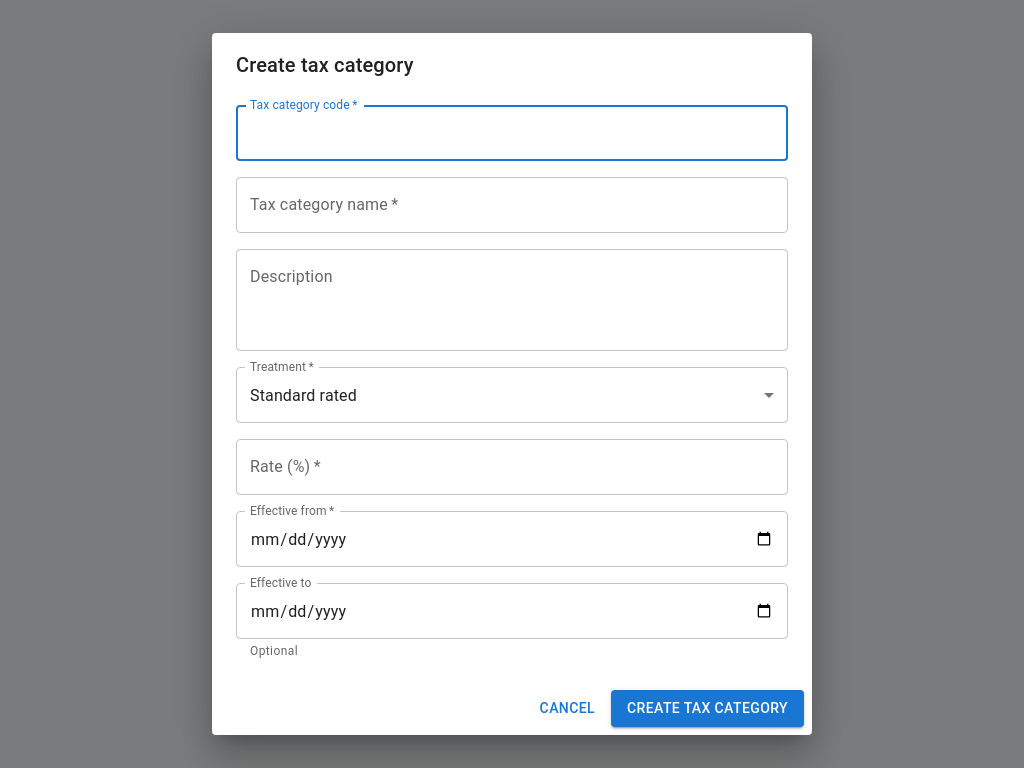
Test: CreateTaxCategoryDialog › validates treatment-rate and effective-date rules
Type "regional" into the field labelled "Tax category code *" at (512, 133), box [236,105,788,161]
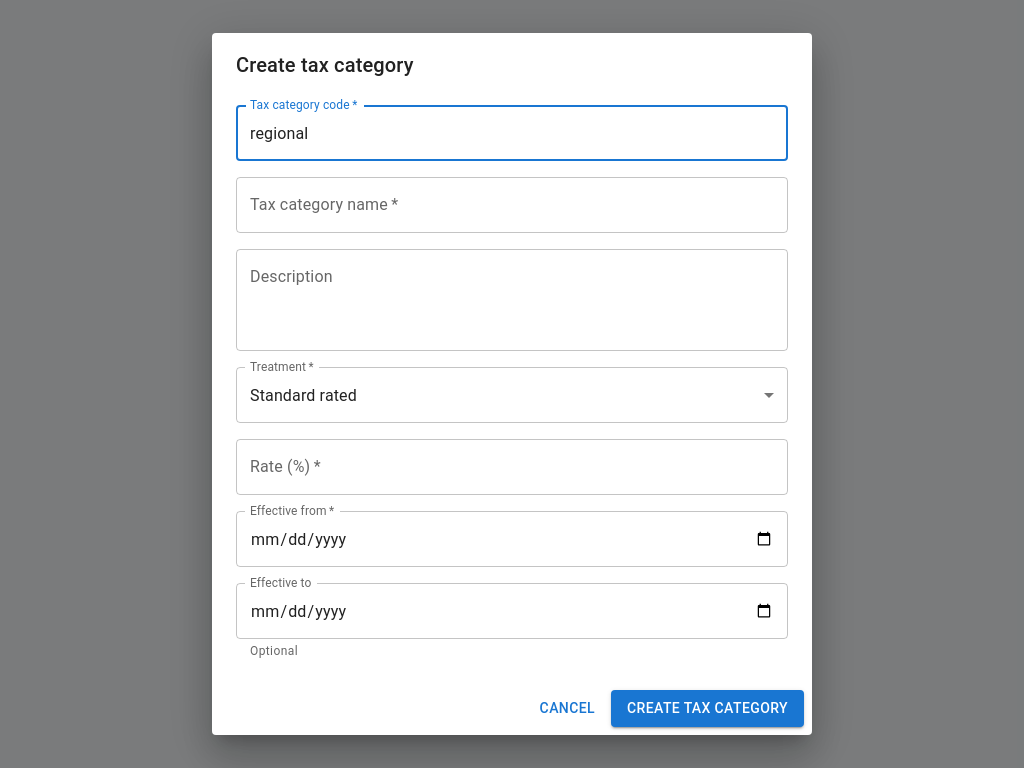
Type "Regional" into the field labelled "Tax category name *" at (512, 205), box [236,177,788,233]
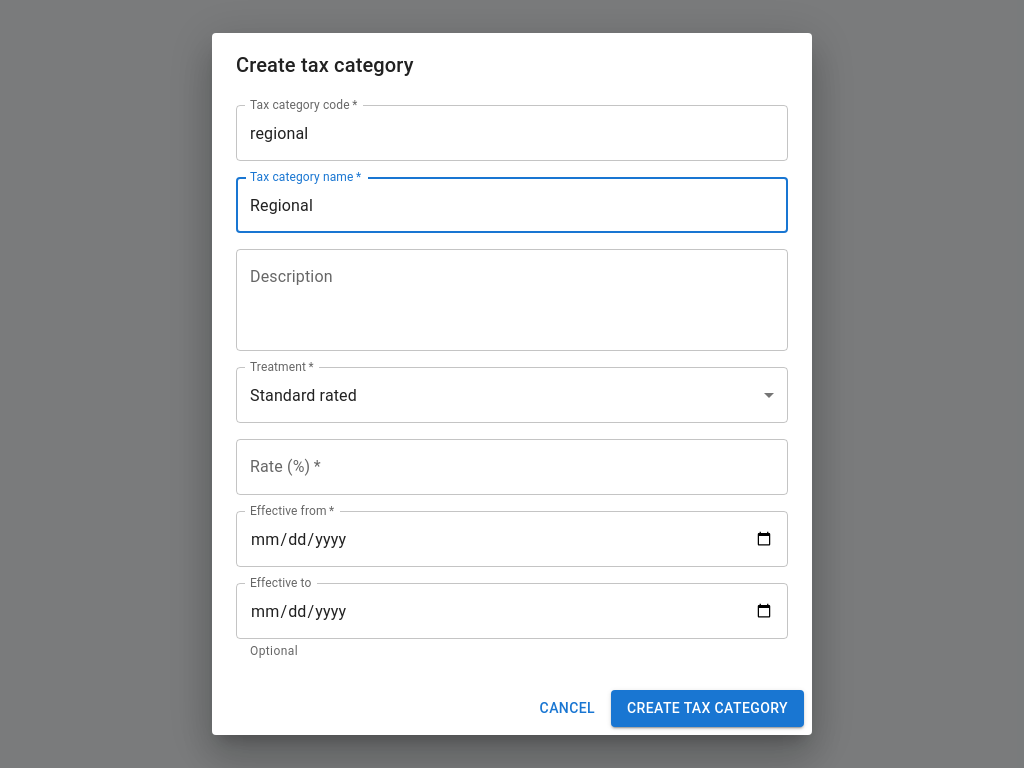
Type "0" into the field labelled "Rate (%) *" at (512, 467), box [236,439,788,495]
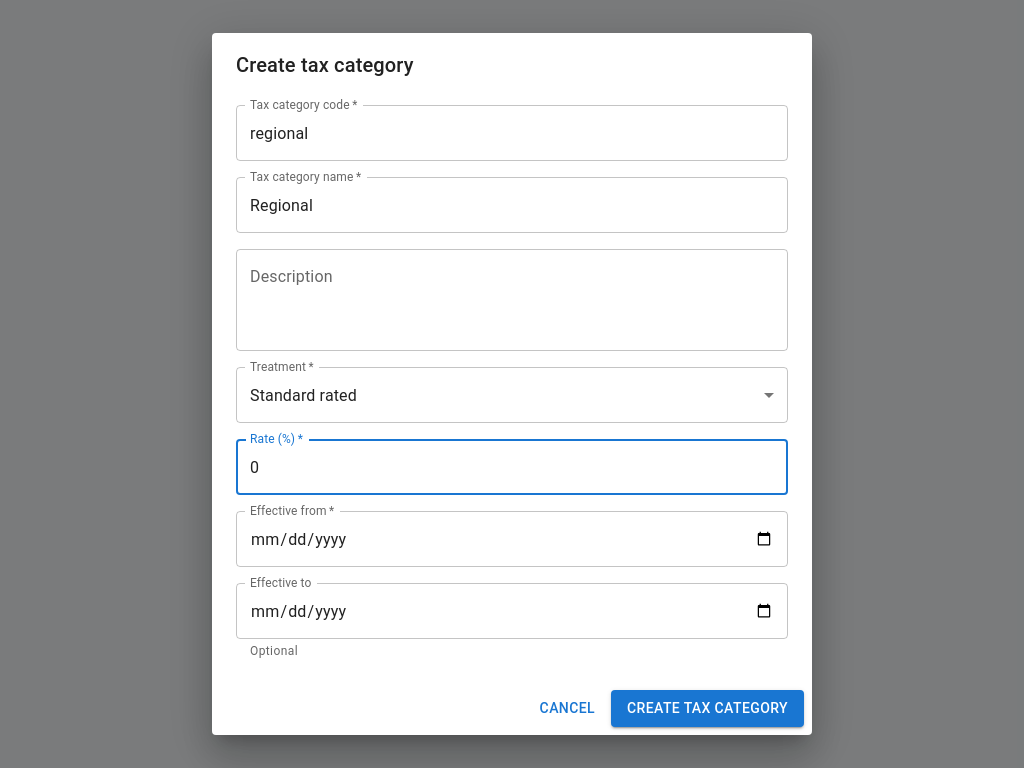
Type "2026-10-01" into the date field labelled "Effective from *" at (512, 539), box [236,511,788,567]
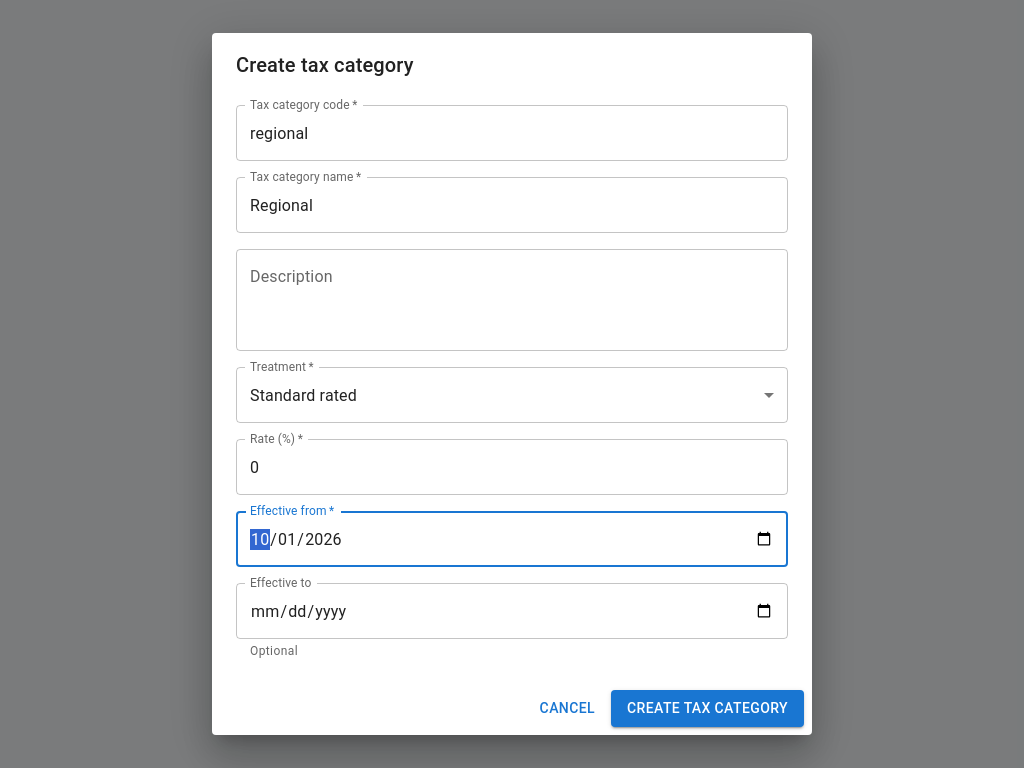
Type "2026-09-30" into the date field labelled "Effective to" at (512, 611), box [236,583,788,639]
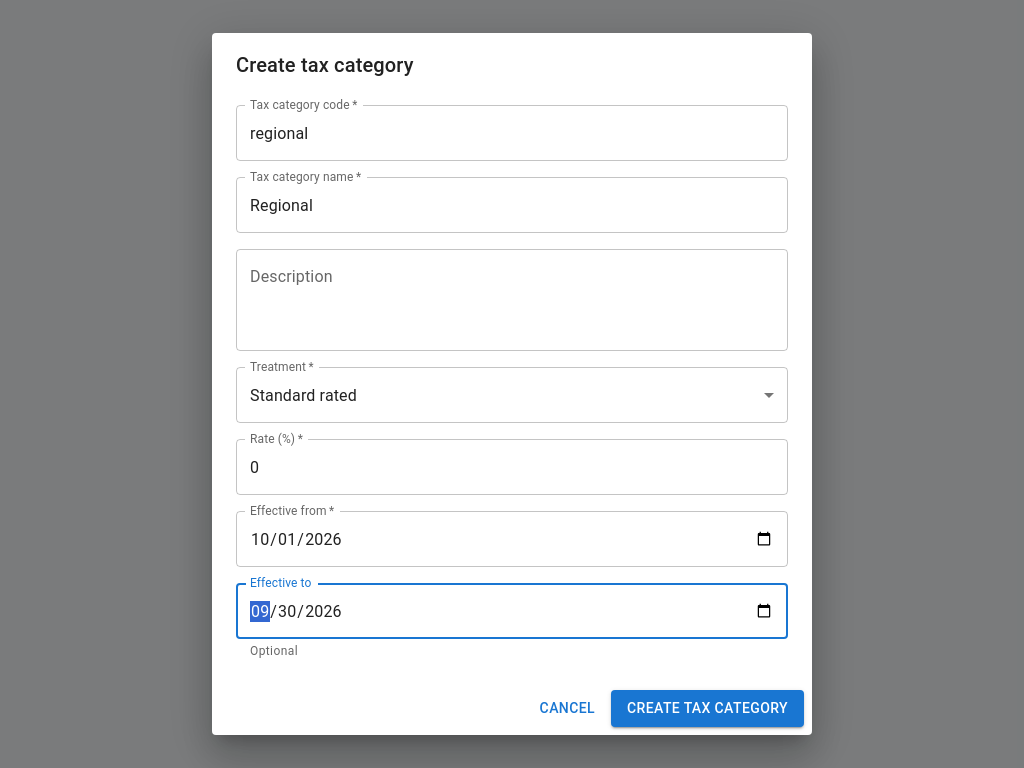
Click the button "Create tax category" at (708, 708), box [611,690,804,727]
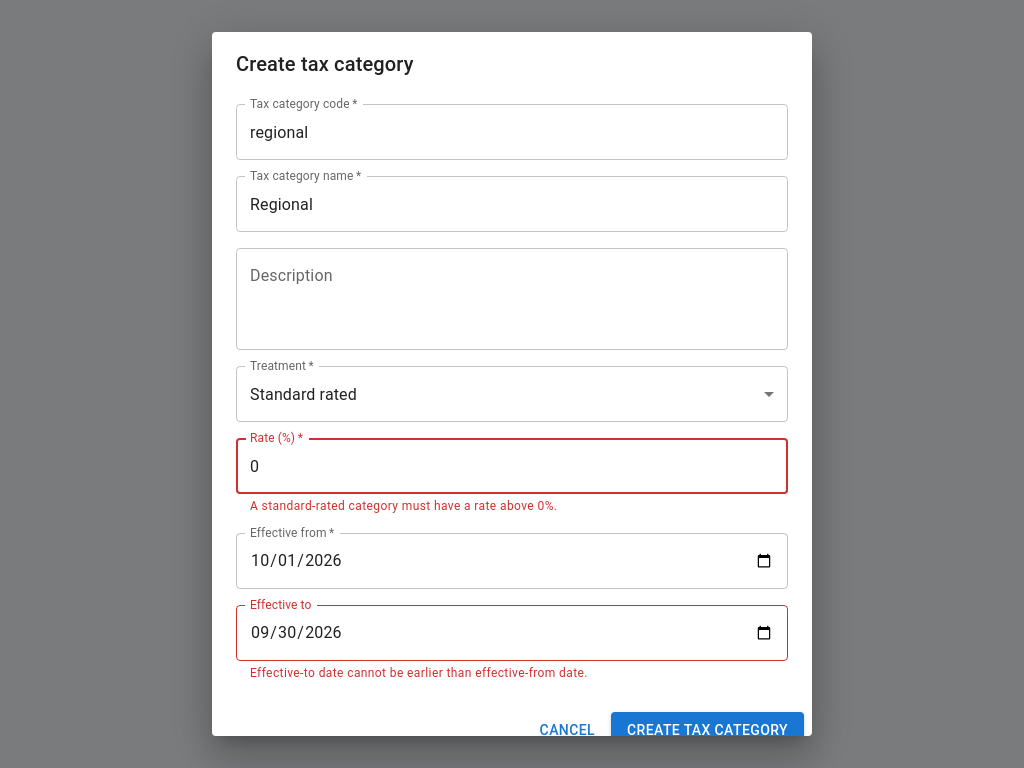
Result: the text "A standard-rated category must have a rate above 0%." is shown at [250,499,557,513]
Result: the text "Effective-to date cannot be earlier than effective-from date." is shown at [250,666,588,680]
